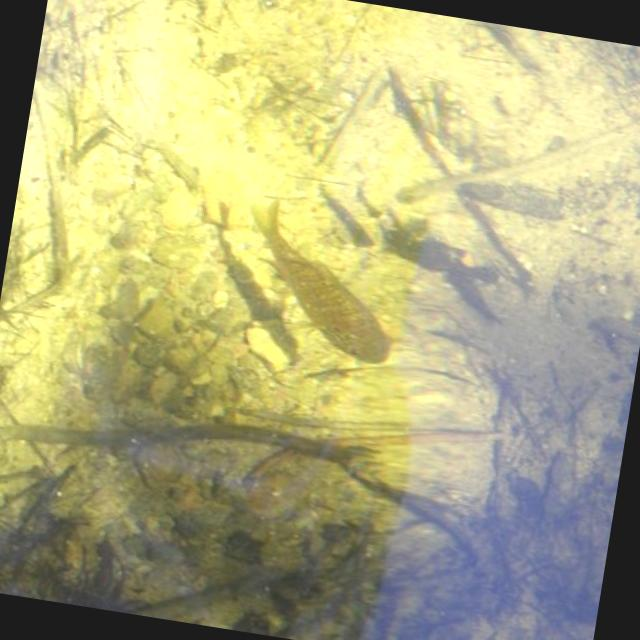Gunes Levregi: (230, 196, 416, 372)
